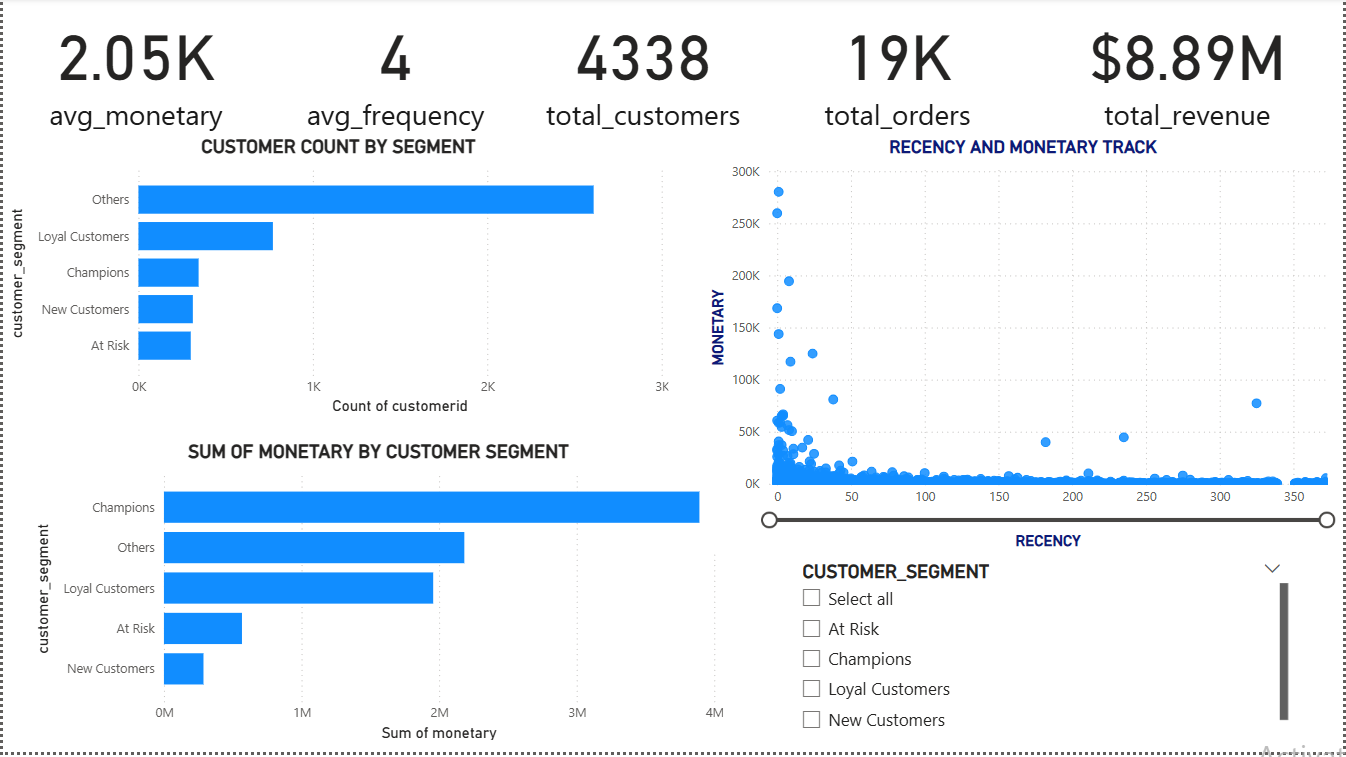

This screenshot's page, from the dashboard's own definition file:
{"tool":"powerbi","page":{"name":"Customer Segmentation Dashboard","canvas":[1280,720],"ordinal":4},"visuals":[{"type":"card","fields":{"Values":["online_retail.avg_monetary"]},"box":[0,0,253.2,132.3],"z":0},{"type":"card","fields":{"Values":["online_retail.avg_frequency"]},"box":[253.2,0,241.9,132.3],"z":1000},{"type":"card","fields":{"Values":["online_retail.total_customers"]},"box":[495.1,0,230.6,132.3],"z":2000},{"type":"card","fields":{"Values":["online_retail.total_orders"]},"box":[725.7,0,255.1,132.3],"z":3000},{"type":"card","fields":{"Values":["online_retail.total_revenue"]},"box":[980.8,0,298.6,132.3],"z":4000},{"type":"barChart","title":"CUSTOMER COUNT BY SEGMENT","fields":{"Category":["customer_segmentation.customer_segment"],"Y":["CountNonNull(customer_segmentation.customerid)"]},"box":[0,132.3,640.6,270.2],"z":5000},{"type":"barChart","title":"SUM OF MONETARY BY CUSTOMER SEGMENT","fields":{"Category":["customer_segmentation.customer_segment"],"Y":["Sum(customer_segmentation.monetary)"]},"box":[0,429,669,291],"z":6000},{"type":"scatterChart","title":"RECENCY AND MONETARY TRACK","fields":{"X":["customer_segmentation.recency"],"Y":["customer_segmentation.monetary"]},"box":[669,132.3,610.4,398.7],"z":7000},{"type":"slicer","fields":{"Values":["customer_segmentation.customer_segment"]},"box":[750.2,531,481.9,183.3],"z":8000}]}

Visuals, with their boxes in screenshot pixels (x1, y1, x2, y2), scaled from the page's 1280x720 canvas onto the 1346x757 screenshot:
card - online_retail.avg_monetary: [x1=0, y1=0, x2=266, y2=139]
card - online_retail.avg_frequency: [x1=266, y1=0, x2=521, y2=139]
card - online_retail.total_customers: [x1=521, y1=0, x2=763, y2=139]
card - online_retail.total_orders: [x1=763, y1=0, x2=1031, y2=139]
card - online_retail.total_revenue: [x1=1031, y1=0, x2=1345, y2=139]
"CUSTOMER COUNT BY SEGMENT" barChart: [x1=0, y1=139, x2=674, y2=423]
"SUM OF MONETARY BY CUSTOMER SEGMENT" barChart: [x1=0, y1=451, x2=703, y2=756]
"RECENCY AND MONETARY TRACK" scatterChart: [x1=703, y1=139, x2=1345, y2=558]
slicer - customer_segmentation.customer_segment: [x1=789, y1=558, x2=1296, y2=751]
